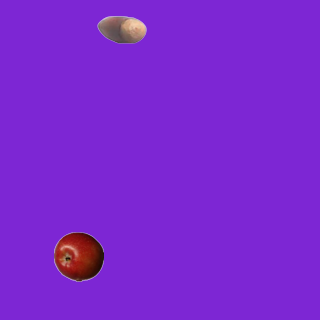Apple Braeburn: (53, 231, 103, 281)
Hazelnut: (96, 4, 146, 54)
